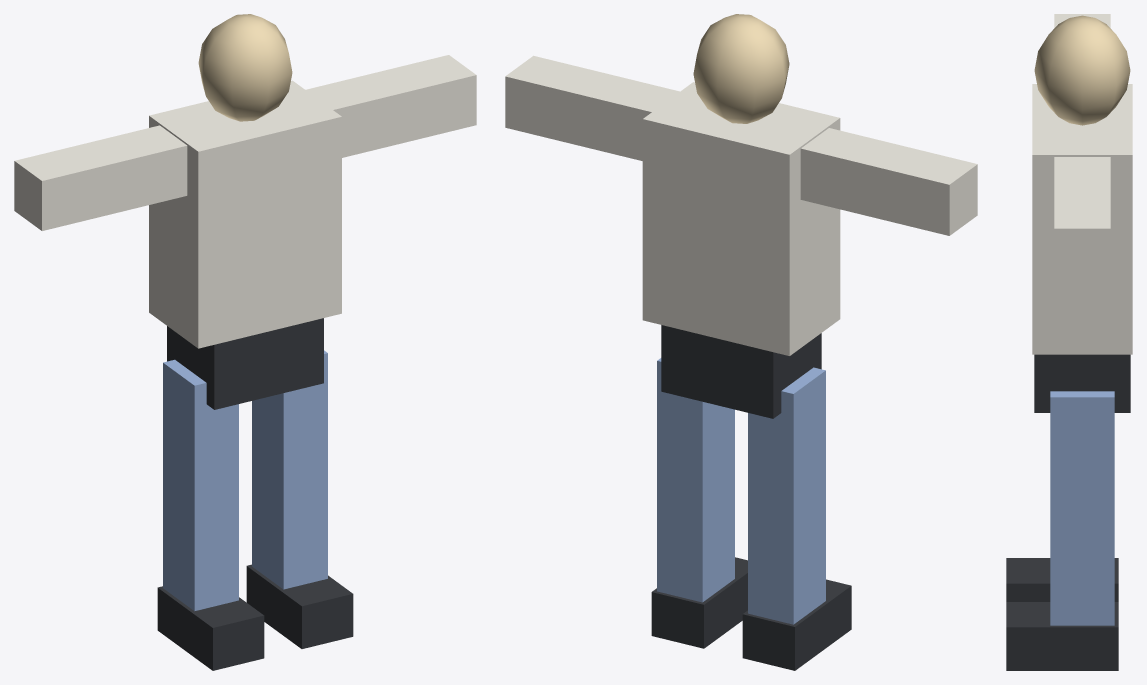
File: Crowd_blockout.glb
3 views of the same model, side by side, from view 1: azimuth 30°, elevation 25°; view 2: azimuth 150°, elevation 25°; view 3: azimuth 270°, elevation 25° (orthographic). The views are drawn at different scales.
Parts seen in each view (by area): view 1: CHR03_Crowd_Jacket_L0, CHR03_Crowd_LegR_L0, CHR03_Crowd_LegL_L0, CHR03_Crowd_ArmR_L0, CHR03_Crowd_ArmL_L0, CHR03_Crowd_Pelvis_L0, CHR03_Crowd_Head_L0, CHR03_Crowd_ShoeR_L0, CHR03_Crowd_ShoeL_L0; view 2: CHR03_Crowd_Jacket_L0, CHR03_Crowd_LegR_L0, CHR03_Crowd_LegL_L0, CHR03_Crowd_ArmR_L0, CHR03_Crowd_ArmL_L0, CHR03_Crowd_Pelvis_L0, CHR03_Crowd_Head_L0, CHR03_Crowd_ShoeR_L0, CHR03_Crowd_ShoeL_L0; view 3: CHR03_Crowd_Jacket_L0, CHR03_Crowd_LegL_L0, CHR03_Crowd_Head_L0, CHR03_Crowd_ArmL_L0, CHR03_Crowd_ShoeL_L0, CHR03_Crowd_Pelvis_L0, CHR03_Crowd_ShoeR_L0, CHR03_Crowd_ArmR_L0.
Part boxes in pixels (<box>): CHR03_Crowd_Jacket_L0: <box>149,80,341,348</box>; CHR03_Crowd_LegR_L0: <box>163,359,238,611</box>; CHR03_Crowd_LegL_L0: <box>252,350,327,589</box>; CHR03_Crowd_ArmR_L0: <box>14,125,187,230</box>; CHR03_Crowd_ArmL_L0: <box>305,55,476,157</box>; CHR03_Crowd_Pelvis_L0: <box>167,318,323,409</box>; CHR03_Crowd_Head_L0: <box>198,14,292,121</box>; CHR03_Crowd_ShoeR_L0: <box>157,586,264,670</box>; CHR03_Crowd_ShoeL_L0: <box>246,564,353,648</box>; CHR03_Crowd_Jacket_L0: <box>642,82,840,355</box>; CHR03_Crowd_LegR_L0: <box>748,367,825,624</box>; CHR03_Crowd_LegL_L0: <box>657,358,734,602</box>; CHR03_Crowd_ArmR_L0: <box>800,128,977,235</box>; CHR03_Crowd_ArmL_L0: <box>505,55,679,160</box>; CHR03_Crowd_Pelvis_L0: <box>661,325,821,418</box>; CHR03_Crowd_Head_L0: <box>693,14,789,123</box>; CHR03_Crowd_ShoeR_L0: <box>742,579,851,670</box>; CHR03_Crowd_ShoeL_L0: <box>651,557,747,648</box>; CHR03_Crowd_Jacket_L0: <box>1032,84,1132,354</box>; CHR03_Crowd_LegL_L0: <box>1050,391,1114,625</box>; CHR03_Crowd_Head_L0: <box>1034,15,1130,125</box>; CHR03_Crowd_ArmL_L0: <box>1054,157,1110,279</box>; CHR03_Crowd_ShoeL_L0: <box>1006,602,1118,670</box>; CHR03_Crowd_Pelvis_L0: <box>1034,354,1130,412</box>; CHR03_Crowd_ShoeR_L0: <box>1006,558,1118,601</box>; CHR03_Crowd_ArmR_L0: <box>1054,14,1110,27</box>.
Size of the model in its own units: 1.27 by 1.7 by 0.315.
